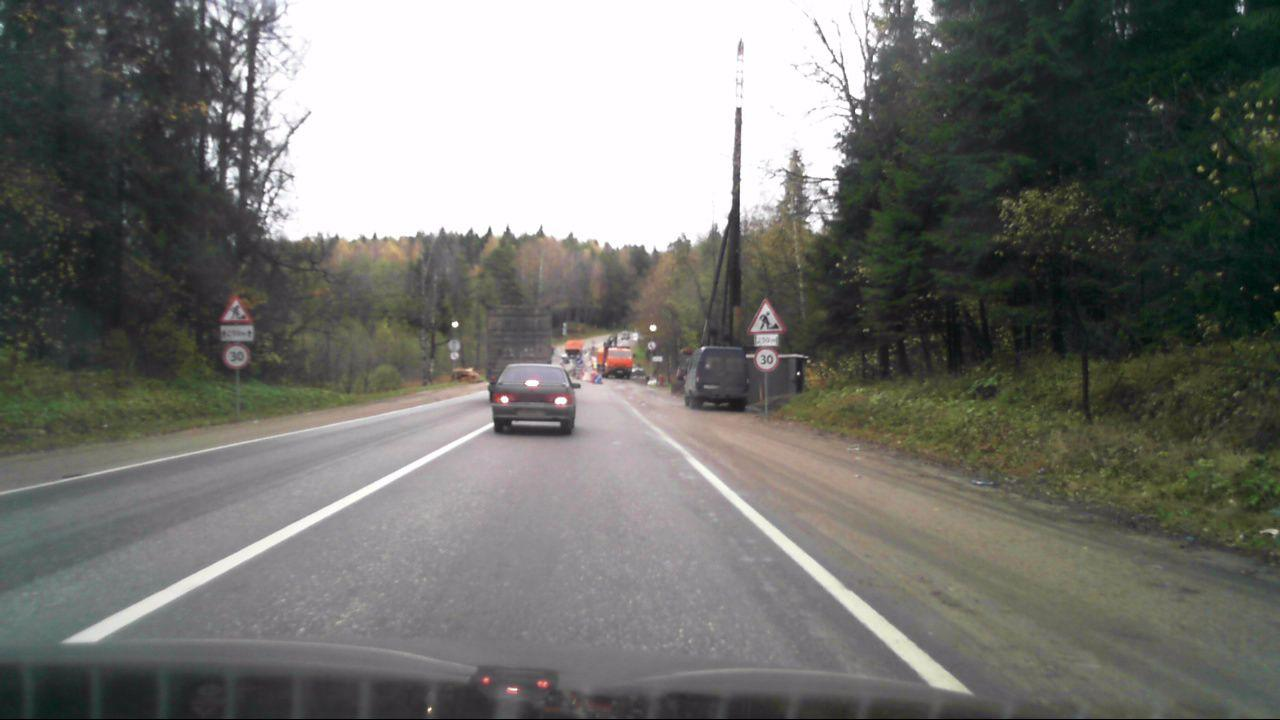1_25: (746, 297, 785, 333), (219, 294, 254, 323)
2_6: (646, 341, 656, 352), (450, 351, 460, 361)
3_24: (754, 348, 781, 372), (224, 344, 251, 368)
8_2_1: (221, 324, 256, 344), (752, 333, 782, 347)
